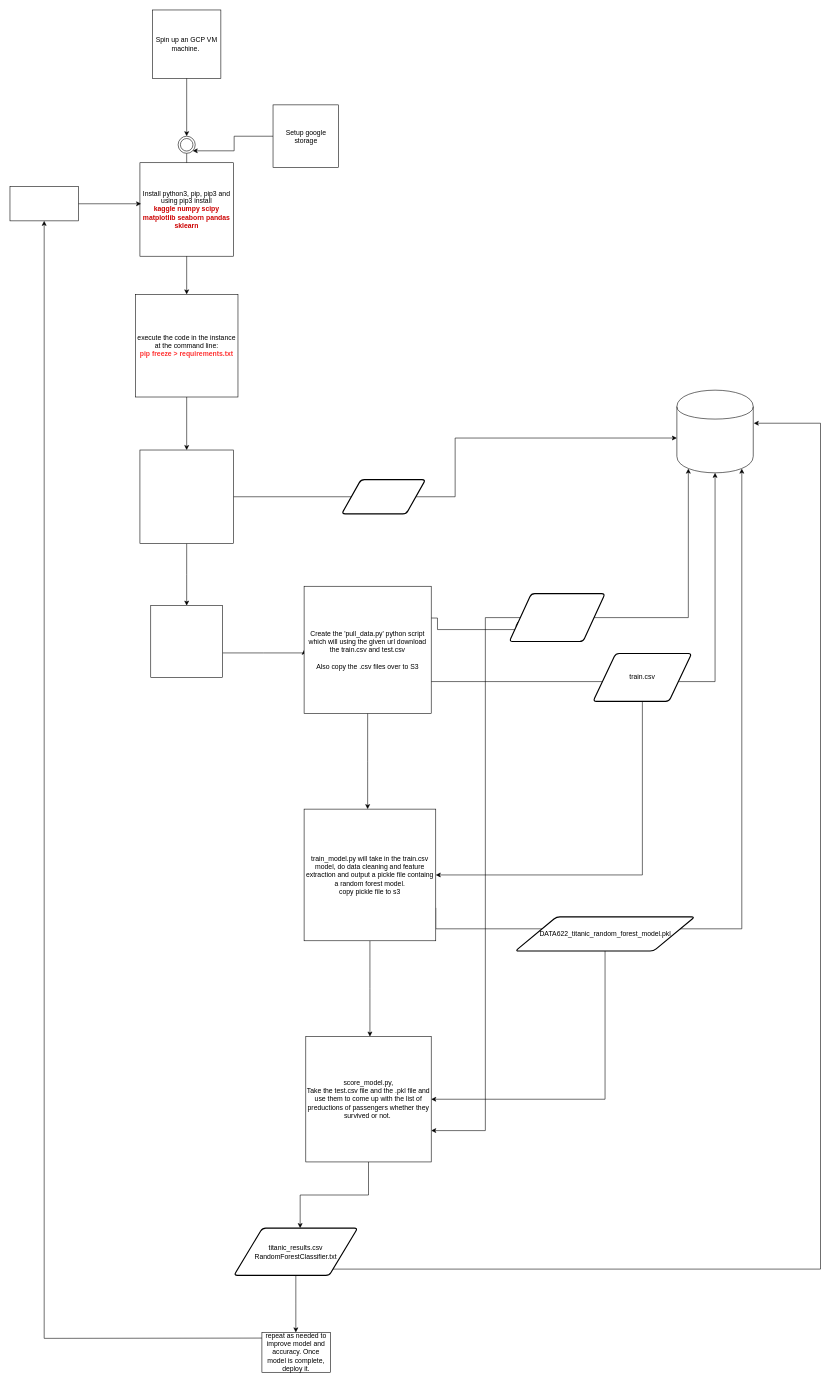
Image size: 835x1383. Some labels were removed from this diagram. The shapes that lost their labels are listed below. From the top down, each one's centre as x and y in pixels, then its label:
the point at 43,203: install any extra packages as needed to improve model and accuracy.
the point at 714,431: s3 bucket
the point at 186,496: Send the requirements.txt to google storage bucket
the point at 383,496: requirements.txt
the point at 556,617: test.csv
the point at 186,641: Setup a kaggle account and store the kaggle.json file on the server
